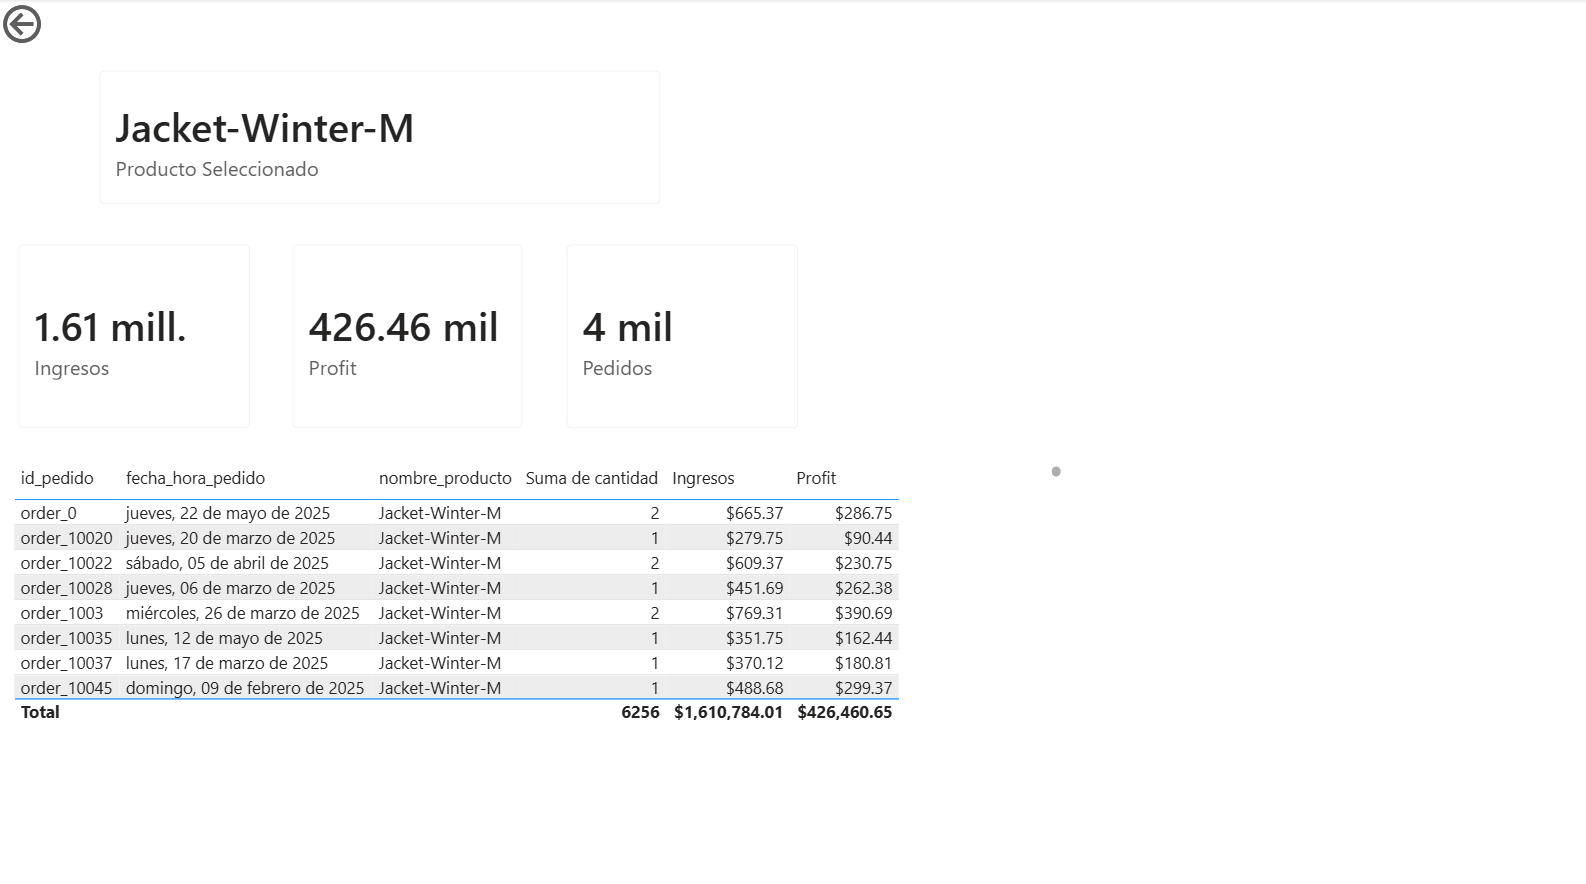

Layout of this report page (visuals, bound fields, positions):
{"tool":"powerbi","page":{"name":"Detalle producto","canvas":[1280,720],"ordinal":2},"visuals":[{"type":"cardVisual","fields":{"Data":["orders_clean.Ingresos"]},"box":[0,178.5,219.1,181.1],"z":0},{"type":"cardVisual","fields":{"Data":["orders_clean.Profit"]},"box":[219.1,178.5,218.2,181.1],"z":1},{"type":"cardVisual","fields":{"Data":["orders_clean.Pedidos"]},"box":[437.3,178.5,219.1,181.1],"z":2},{"type":"tableEx","fields":{"Values":["orders_clean.id_pedido","orders_clean.fecha_hora_pedido","orders_clean.nombre_producto","Sum(orders_clean.cantidad)","orders_clean.Ingresos","orders_clean.Profit"]},"box":[7.8,367.4,847,215.6],"z":3},{"type":"actionButton","box":[0,0,100,40],"z":4},{"type":"actionButton","box":[0,0,100,40],"z":5},{"type":"cardVisual","fields":{"Data":["orders_clean.Producto Seleccionado"]},"box":[64.7,39.7,482.2,141.5],"z":6}]}

Visuals, with their boxes in screenshot pixels (x1, y1, x2, y2), scaled from the page's 1280x720 canvas onto the 1586x884 screenshot:
cardVisual - orders_clean.Ingresos: rect(0, 219, 271, 442)
cardVisual - orders_clean.Profit: rect(271, 219, 542, 442)
cardVisual - orders_clean.Pedidos: rect(542, 219, 813, 442)
tableEx - orders_clean.id_pedido x orders_clean.fecha_hora_pedido: rect(10, 451, 1059, 716)
actionButton: rect(0, 0, 124, 49)
actionButton: rect(0, 0, 124, 49)
cardVisual - orders_clean.Producto Seleccionado: rect(80, 49, 678, 222)
